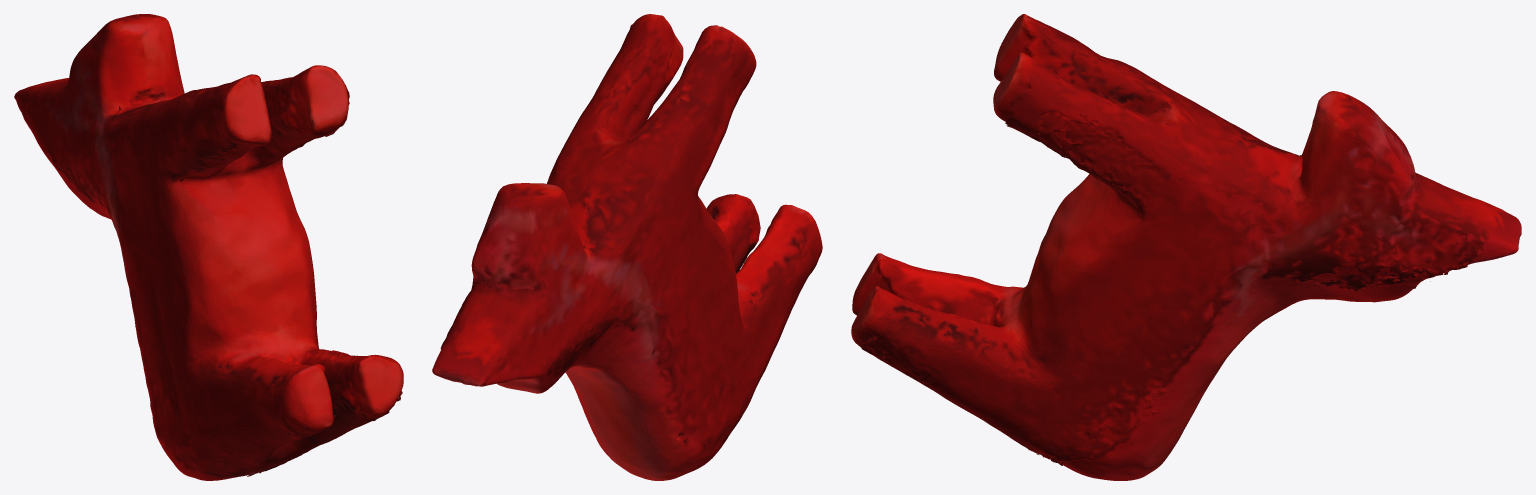
File: dala horse.glb
The picture shows the model from 3 angles, left to right: view 1: azimuth 30°, elevation 25°; view 2: azimuth 150°, elevation 25°; view 3: azimuth 270°, elevation 25°; orthographic projection. The views are drawn at different scales.
Visible parts, largest first — view 1: Mesh; view 2: Mesh; view 3: Mesh.
Boxes of the visible parts, box(x1,y1,x2,y2) form: Mesh: box(14, 14, 403, 480); Mesh: box(432, 14, 822, 480); Mesh: box(851, 14, 1521, 480).
Size of the model in its own units: 29.99 by 88.52 by 120.
